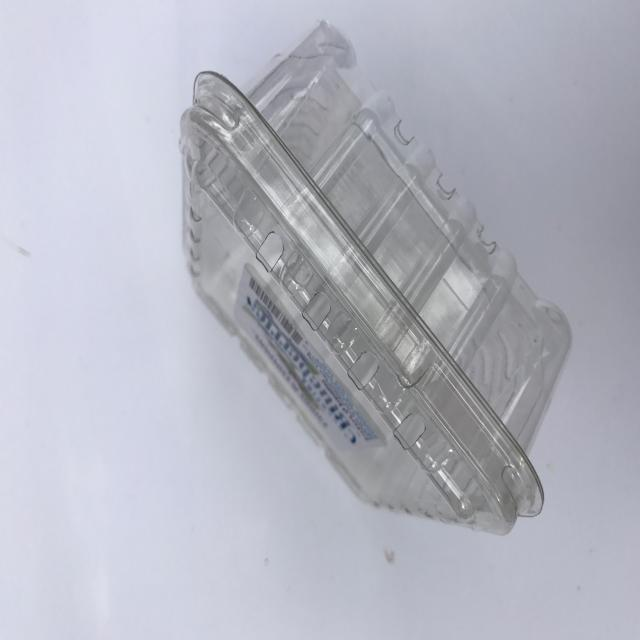plastic: (155, 13, 595, 541)
